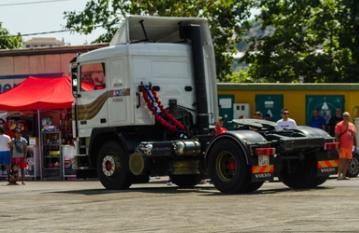vehicle: (70, 15, 339, 194)
